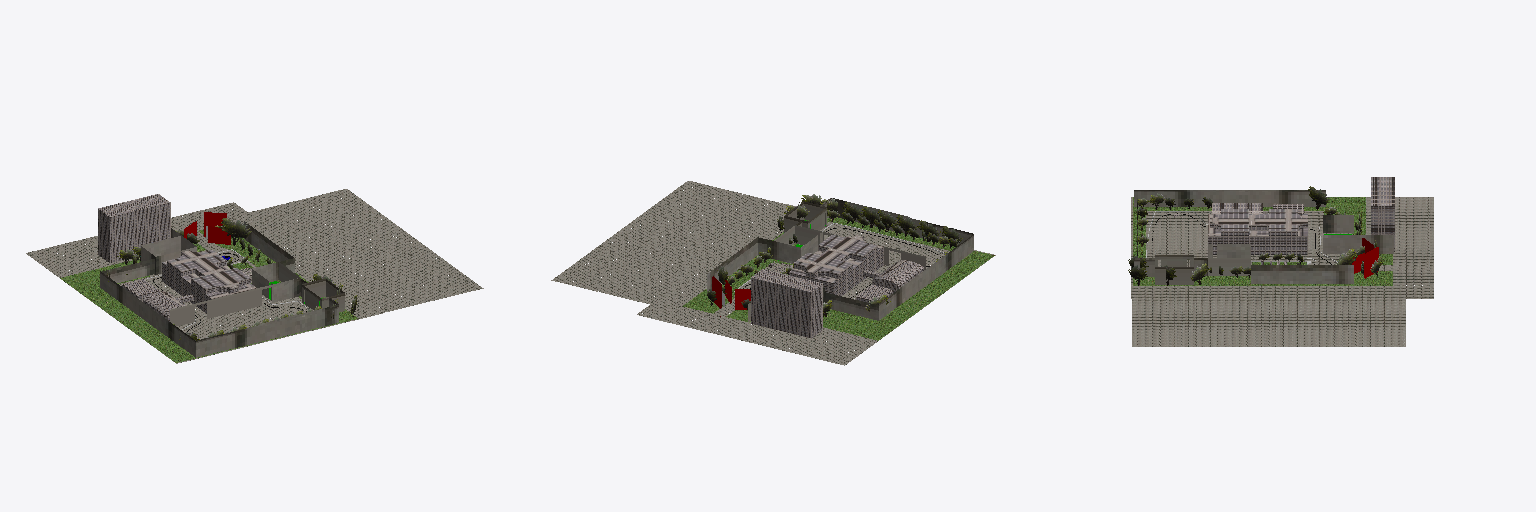
3 renders of one model, left to right at view 1: azimuth 30°, elevation 25°; view 2: azimuth 150°, elevation 25°; view 3: azimuth 270°, elevation 25°, orthographic.
Parts seen in each view (by area): view 1: ground_Plane, Plane.002_Plane.073, Cube.001_Cube.008, Plane_Plane.001, Plane.001_Plane.034; view 2: ground_Plane, Cube.001_Cube.008, Plane.002_Plane.073, Plane_Plane.001, Plane.001_Plane.034; view 3: ground_Plane, Plane.002_Plane.073, Cube.001_Cube.008, Plane_Plane.001, Plane.001_Plane.034.
Part boxes in pixels (x1,y1,x2,y2): ground_Plane: (26,189,483,363); Plane.002_Plane.073: (100,221,344,357); Cube.001_Cube.008: (98,194,305,337); Plane_Plane.001: (60,230,357,362); Plane.001_Plane.034: (107,212,356,340); ground_Plane: (551,181,995,365); Cube.001_Cube.008: (751,231,933,338); Plane.002_Plane.073: (707,198,973,321); Plane_Plane.001: (683,217,994,340); Plane.001_Plane.034: (707,194,962,316); ground_Plane: (1131,197,1433,346); Plane.002_Plane.073: (1134,190,1393,284); Cube.001_Cube.008: (1174,177,1394,264); Plane_Plane.001: (1133,197,1392,285); Plane.001_Plane.034: (1128,186,1382,285).
Size of the model in its own units: 254 by 47.65 by 220.
Materials: 15 (4 with a texture image).